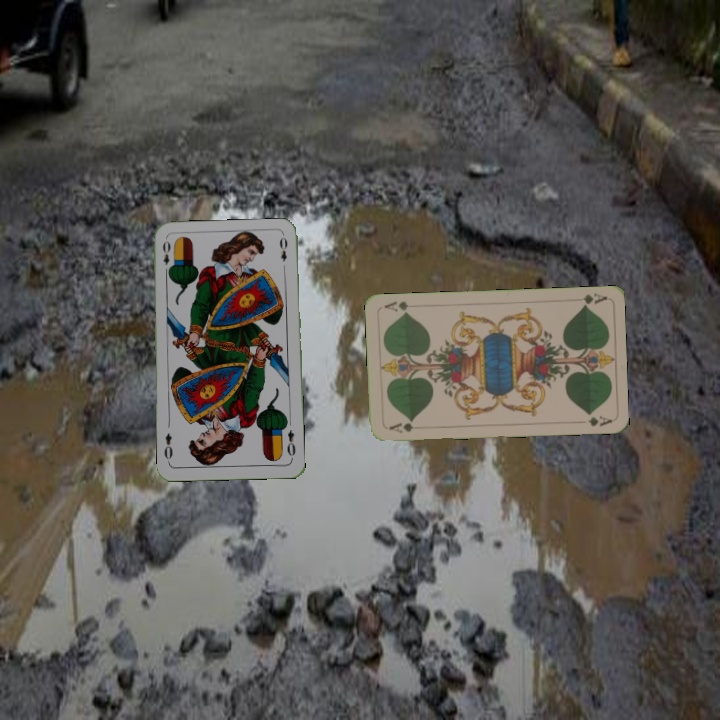EO: (159, 237, 174, 277), (283, 426, 298, 462)
GA: (579, 289, 608, 309), (385, 417, 416, 435)
